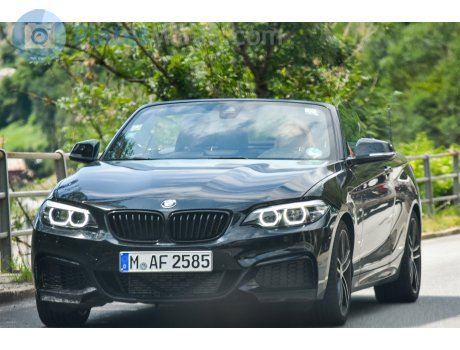License Plates: (128, 251, 212, 268)
